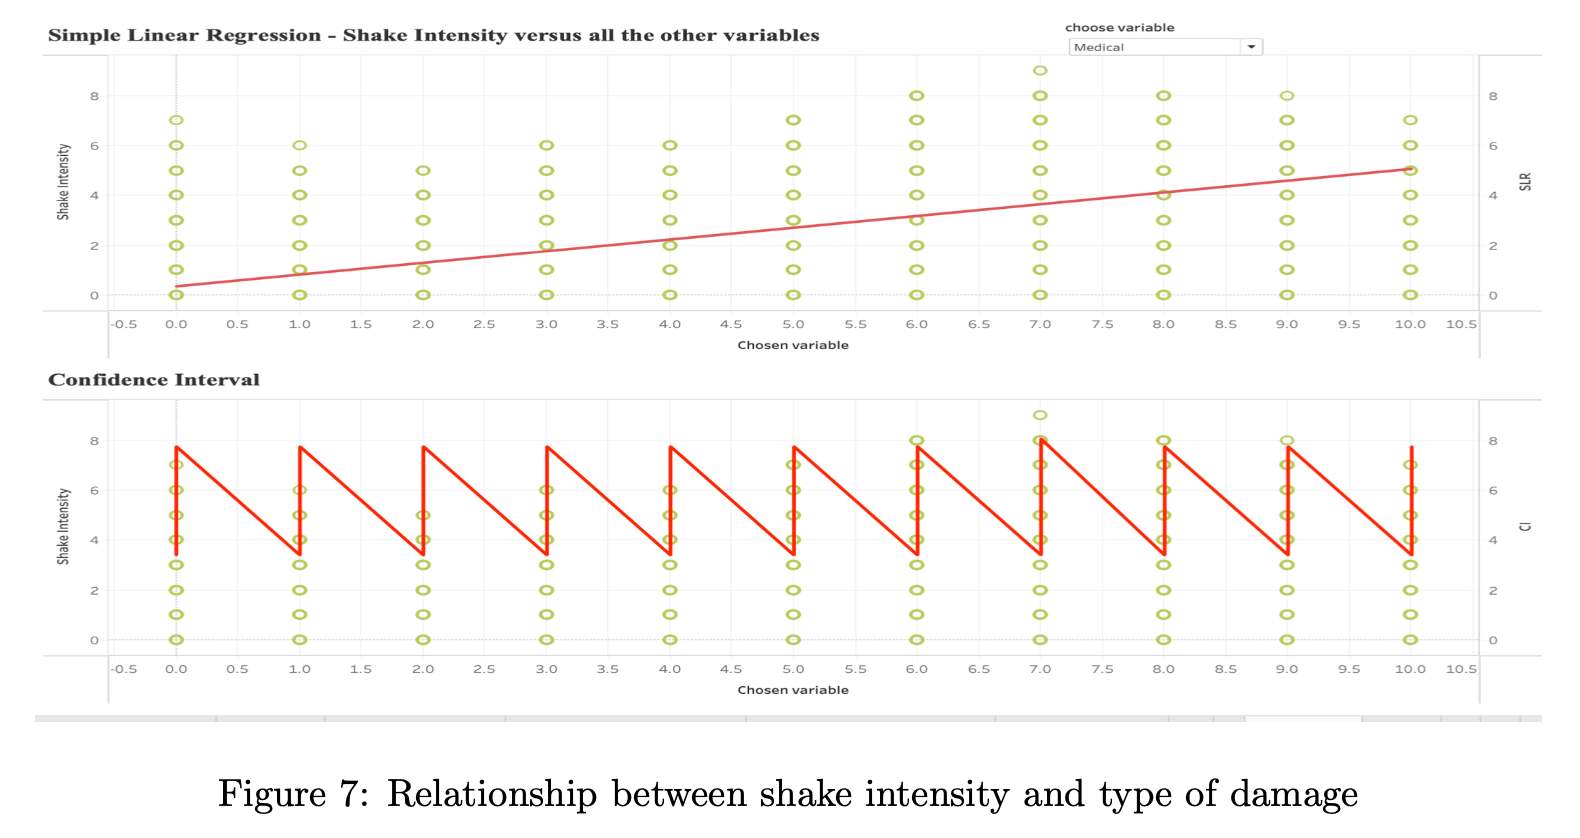

The page's visual inventory and layout, read from the dashboard file:
{"tool":"tableau","page":{"name":"Regression","canvas":[1000,1000],"units":"permille","ordinal":5},"visuals":[{"type":"worksheet","title":"SLR","mark":"Automatic","rows":["shake_intensity","Calculation_5082734424150257666"],"cols":["Calculation_5082734424144297985"],"box":[6.7,12,986.6,488]},{"type":"parameter","param":"[Parameters].[Parameter 1]","box":[677.1,12,131.5,65.8]},{"type":"worksheet","title":"CI","mark":"Automatic","rows":["shake_intensity","Calculation_5082734424164483075"],"cols":["Calculation_5082734424144297985"],"box":[6.7,500,986.6,488]}]}

Visuals, with their boxes on the dashboard's canvas, which has no fixed pixel size, in thousandths of its width and height (x1, y1, x2, y2). These are canvas units, not pixel positions in the 1580x838 screenshot, which may show the page scaled, cropped or inside an application window:
"SLR" worksheet: {"left": 7, "top": 12, "right": 993, "bottom": 500}
parameter: {"left": 677, "top": 12, "right": 809, "bottom": 78}
"CI" worksheet: {"left": 7, "top": 500, "right": 993, "bottom": 988}
